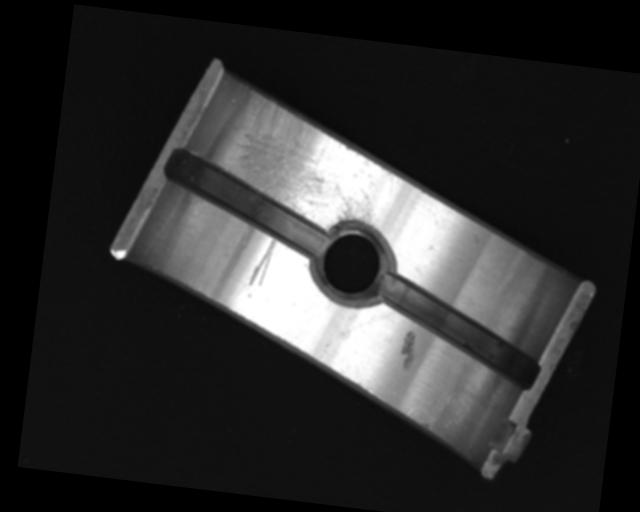bruise: (397, 328, 422, 372)
gap: (364, 270, 549, 390), (156, 147, 333, 256)
hole: (309, 221, 397, 306)
nick: (247, 234, 276, 289)
scratch: (225, 85, 399, 233)
